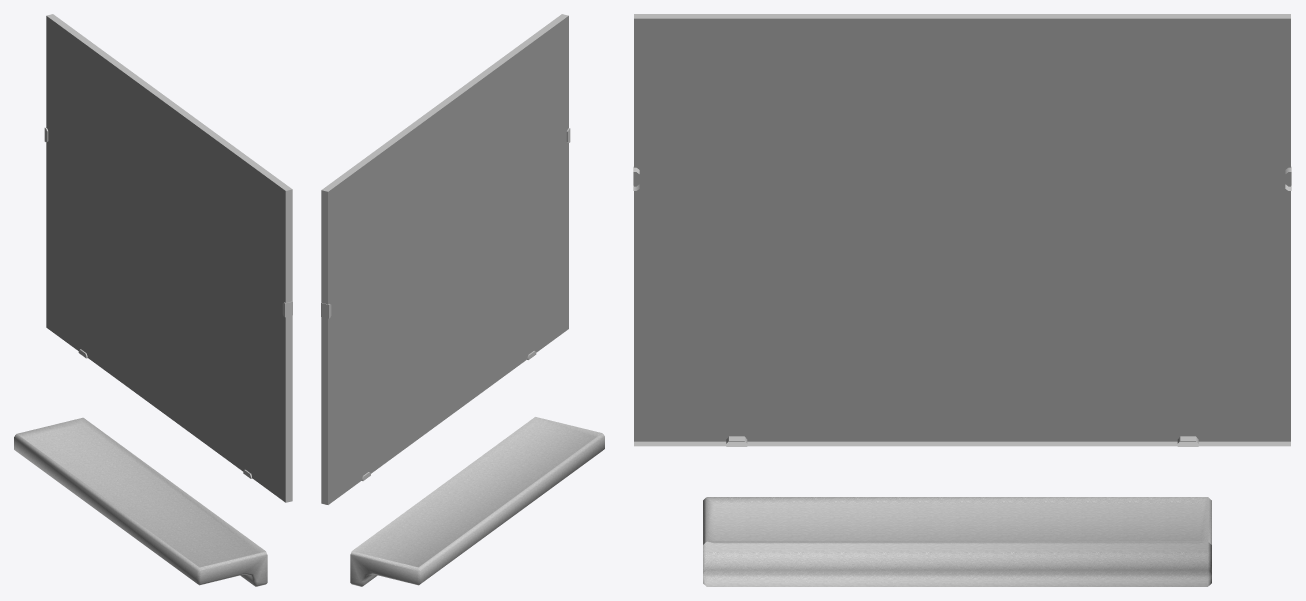
Rendered from Bath_Mirror.fbx.
3 renders of one model, left to right at view 1: azimuth 30°, elevation 25°; view 2: azimuth 150°, elevation 25°; view 3: azimuth 270°, elevation 25°, orthographic. The views are drawn at different scales.
Parts seen in each view (by area): view 1: Bath_Mirror; view 2: Bath_Mirror; view 3: Bath_Mirror.
Part boxes in pixels (<box>): Bath_Mirror: <box>14,14,292,586</box>; Bath_Mirror: <box>321,14,604,586</box>; Bath_Mirror: <box>633,14,1291,586</box>.
Size of the model in its own units: 13.01 by 74.39 by 78.09.
